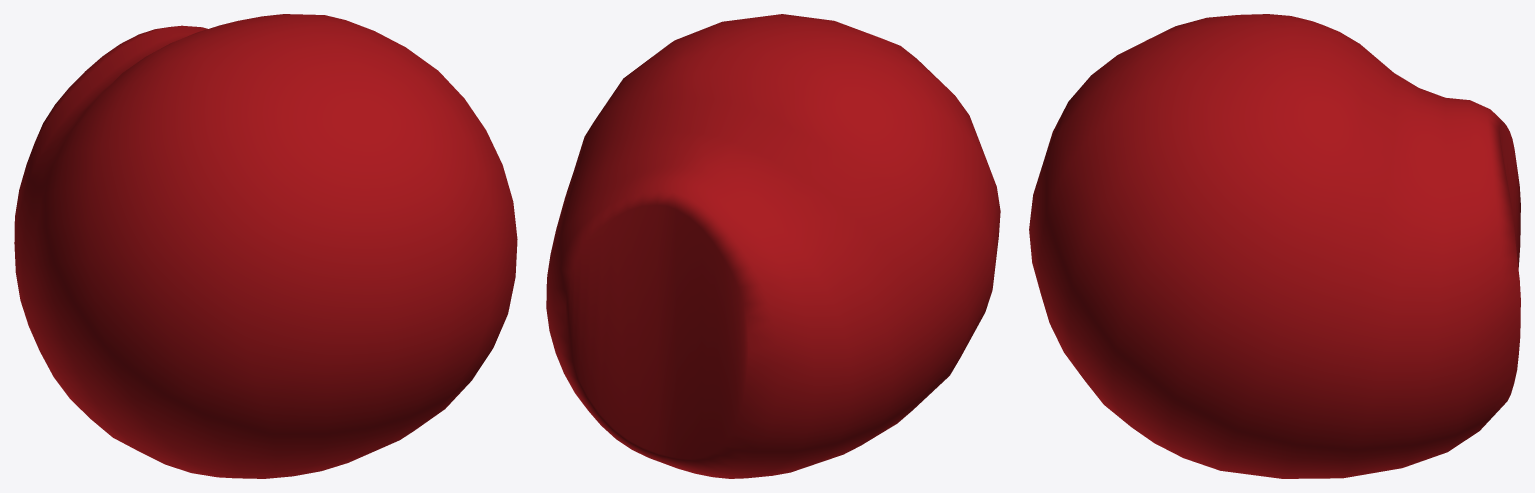
Rendered from AccessoryGlassmouthNoseRed.glb.
3 renders of one model, left to right at view 1: azimuth 30°, elevation 25°; view 2: azimuth 150°, elevation 25°; view 3: azimuth 270°, elevation 25°, orthographic. The views are drawn at different scales.
Visible parts, largest first — view 1: Accessory__mAccessory; view 2: Accessory__mAccessory; view 3: Accessory__mAccessory.
Boxes of the visible parts, box(x1,y1,x2,y2) form: Accessory__mAccessory: box(14, 14, 517, 478); Accessory__mAccessory: box(546, 14, 1000, 478); Accessory__mAccessory: box(1029, 14, 1520, 478).
Bounding box in the file's own units: 1.65 × 1.62 × 1.73.
Materials: 1 (1 with a texture image).
